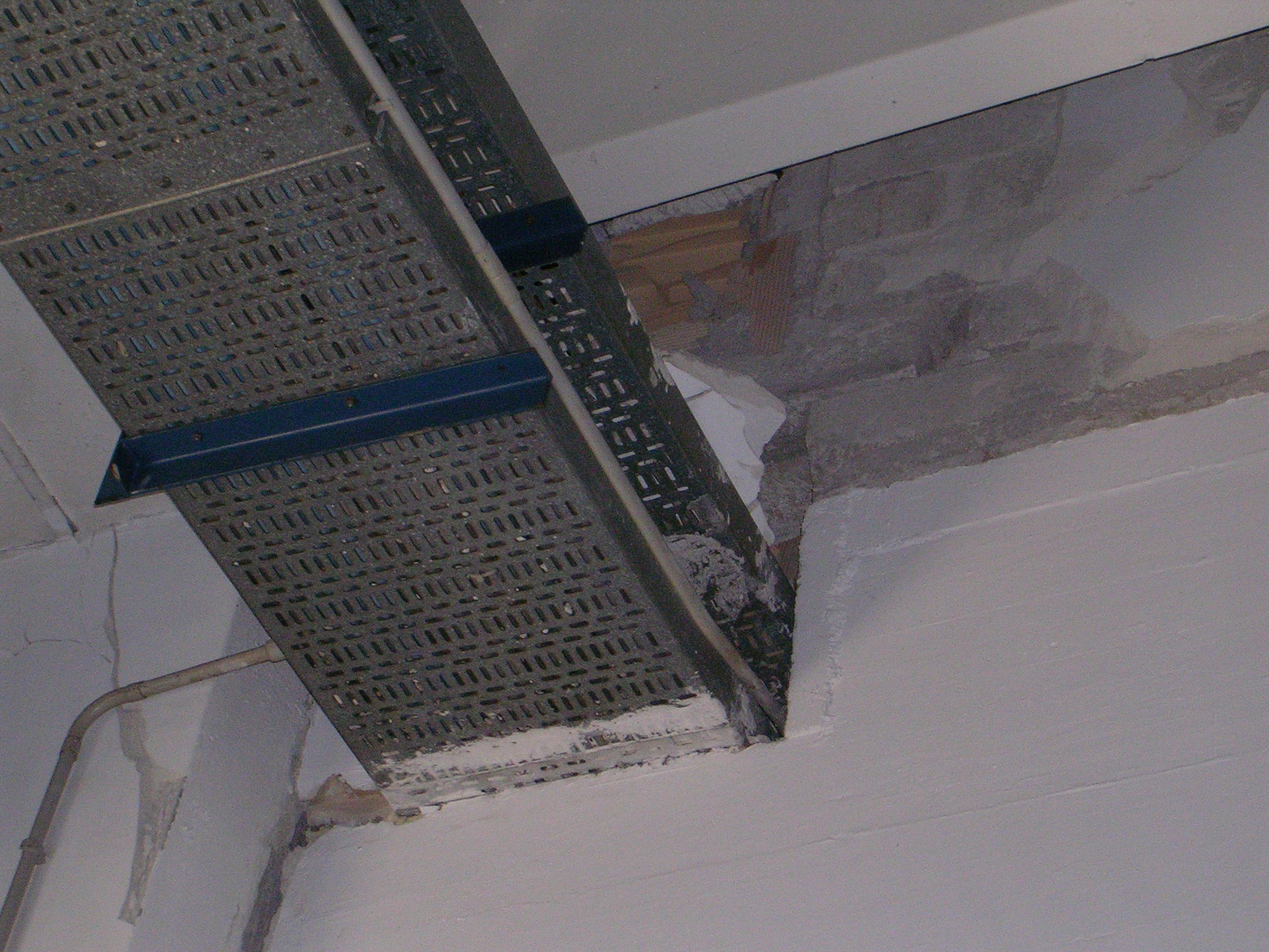Crack: (1, 524, 125, 689), (112, 703, 170, 932)
Debris: (656, 345, 790, 549)
Spalling: (593, 29, 1265, 516), (603, 203, 752, 327)
